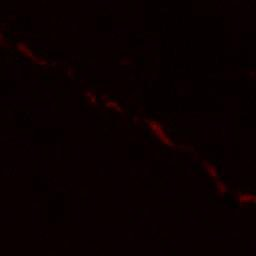debris: (150, 122, 172, 147), (101, 92, 125, 114), (237, 191, 254, 203), (84, 90, 101, 101), (17, 42, 30, 56), (205, 163, 218, 177), (214, 176, 224, 192), (29, 54, 44, 63)
